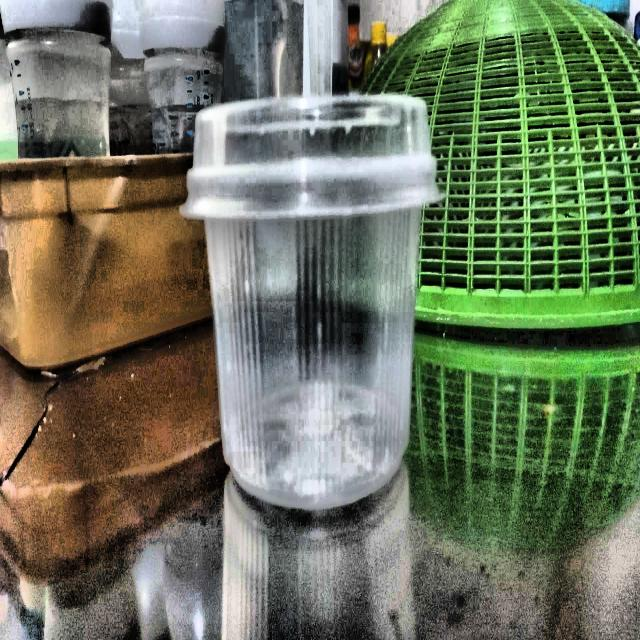plastic container: (182, 93, 440, 507)
